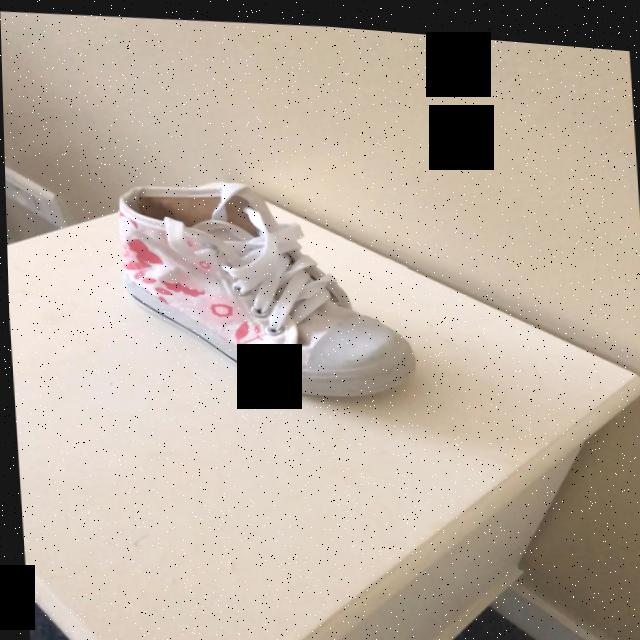shoe: (119, 179, 412, 394)
